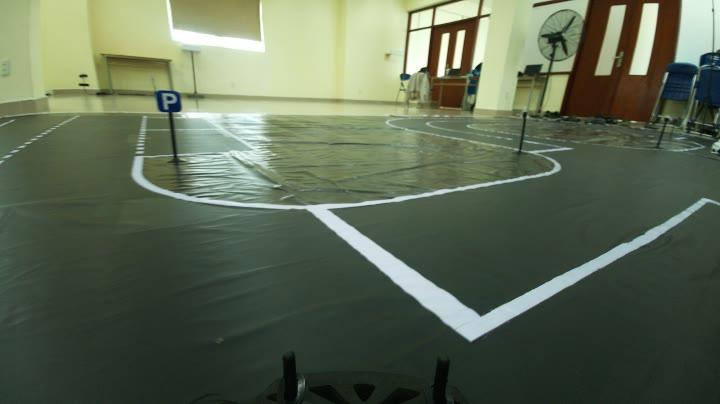parking: (150, 82, 186, 113)
